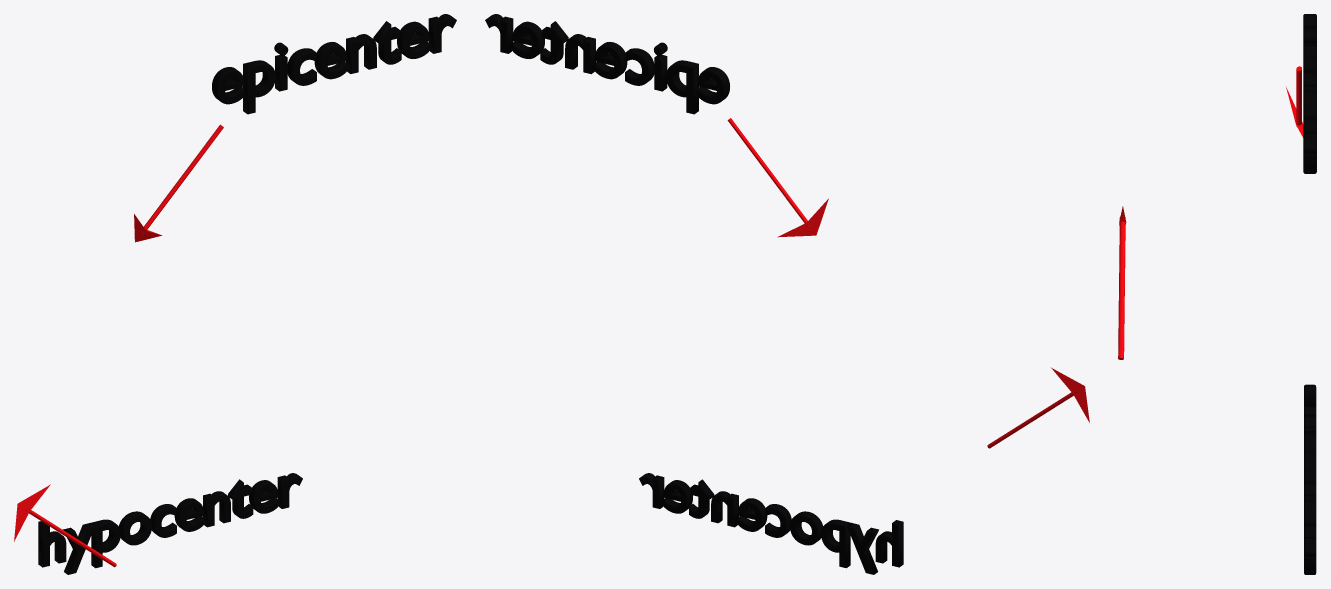
File: arrows.gltf
3 renders of one model, left to right at view 1: azimuth 30°, elevation 25°; view 2: azimuth 150°, elevation 25°; view 3: azimuth 270°, elevation 25°, orthographic. The views are drawn at different scales.
Visible parts, largest first — view 1: Text, Text.001, Cube.002, Cube.001; view 2: Text, Text.001, Cube.001, Cube.002; view 3: Text.001, Text, Cube.002, Cube.001.
Boxes of the visible parts, x1,y1,x2,y2 form: Text: (212, 14, 456, 114); Text.001: (38, 473, 302, 574); Cube.002: (14, 484, 116, 567); Cube.001: (134, 124, 223, 242); Text: (485, 14, 729, 114); Text.001: (639, 473, 903, 574); Cube.001: (727, 118, 828, 237); Cube.002: (987, 367, 1089, 448); Text.001: (1304, 384, 1316, 574); Text: (1303, 14, 1316, 173); Cube.002: (1118, 206, 1126, 359); Cube.001: (1286, 66, 1303, 137).
Size of the model in its own units: 12.23 by 10.68 by 3.46.
